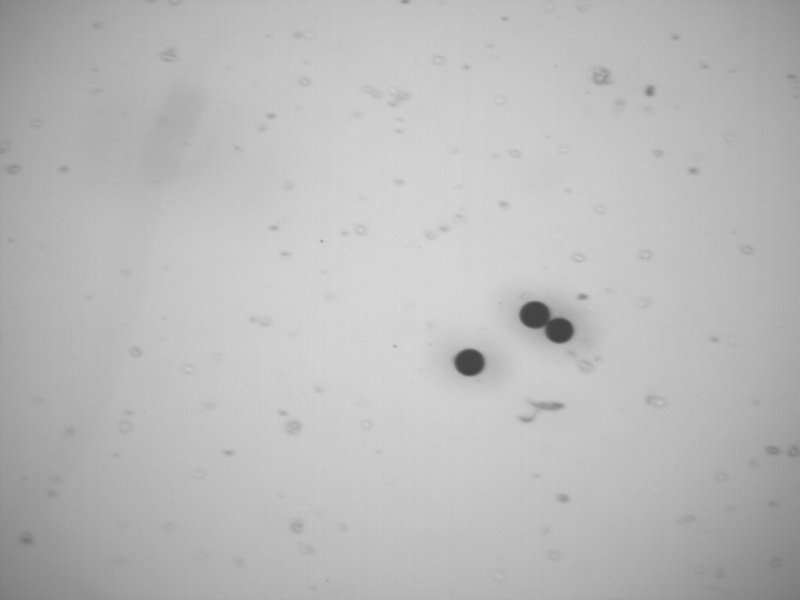bead: (452, 346, 486, 379), (519, 300, 550, 331), (545, 316, 574, 345)
fiber: (516, 395, 567, 427)
